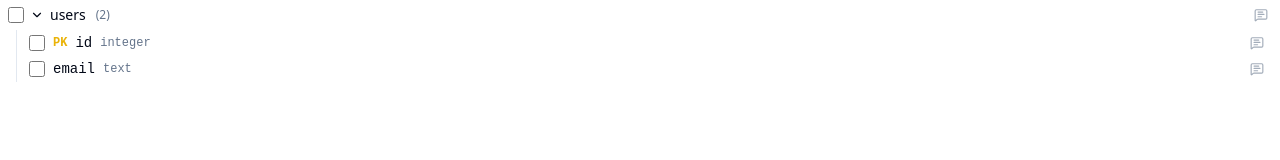
clicking header again collapses columns
Expected: the text "id" is shown, [75,33,92,53]
Click the button named "users(2)" at (68, 14), box [30,5,1244,25]
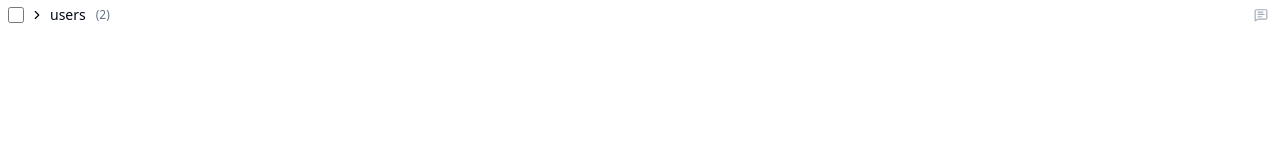
Now the text "id" is gone
